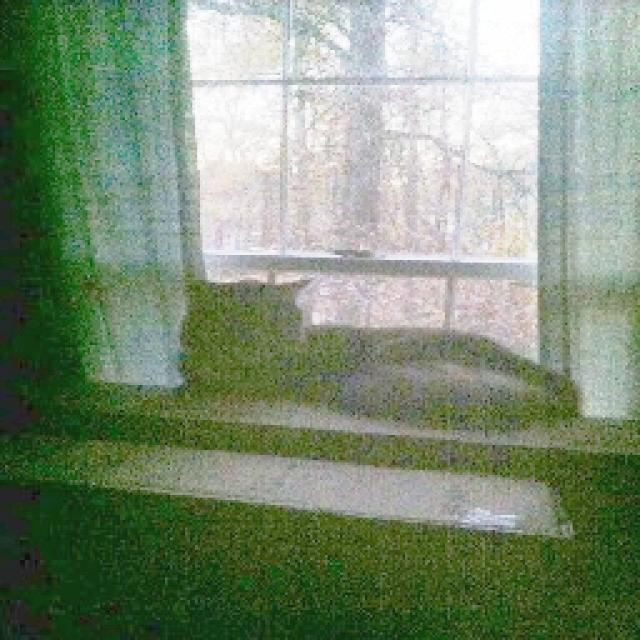cat: (167, 252, 603, 453)
